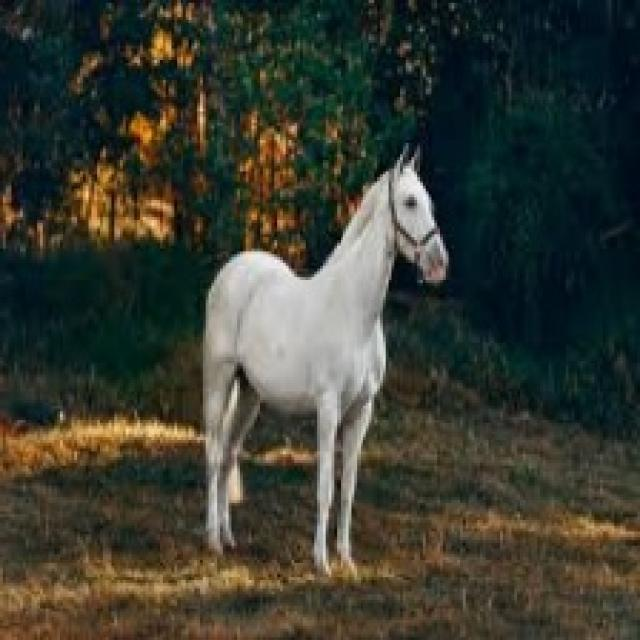animal: (135, 165, 462, 597)
